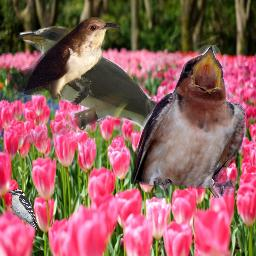Cuckoo: (18, 26, 219, 198), (7, 17, 121, 100)
Swallow: (131, 45, 246, 198)
Woodpecker: (7, 189, 38, 231)
